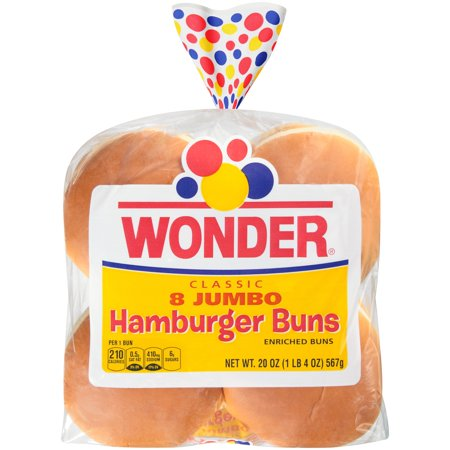hamburger_buns: (55, 120, 396, 438)
